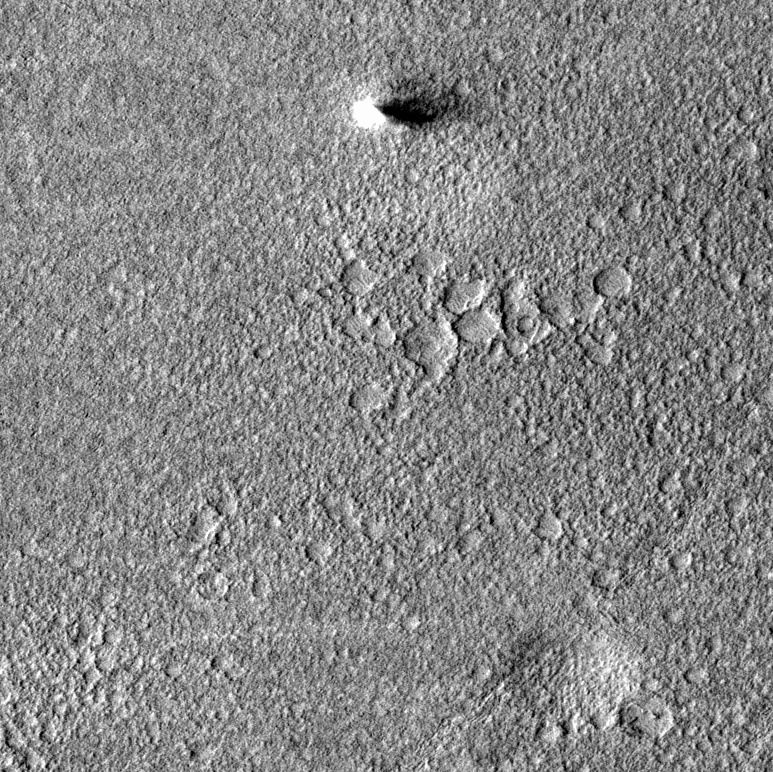dust_devil: (349, 84, 475, 134)
